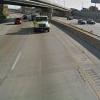Bridge: (18, 1, 73, 19)
